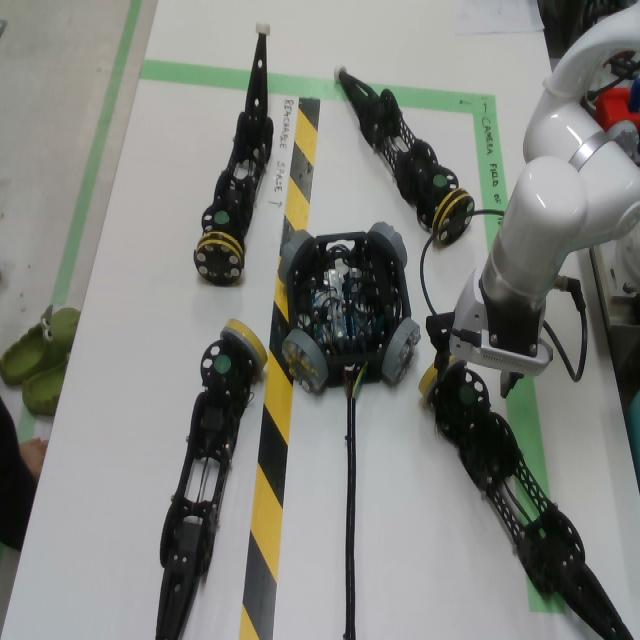body: (286, 232, 412, 388)
body_connector: (281, 329, 328, 395), (381, 317, 421, 385), (277, 231, 314, 285), (367, 221, 408, 268)
gripper: (426, 271, 524, 399)
leg: (418, 357, 635, 640), (155, 319, 268, 640), (333, 64, 475, 245), (193, 23, 274, 284)
leg_connector: (193, 231, 244, 285), (219, 319, 268, 373), (432, 188, 474, 244), (418, 363, 441, 407), (441, 355, 467, 384)
leg_marker: (214, 355, 231, 375), (460, 385, 475, 403), (215, 211, 229, 223), (434, 175, 447, 187)
